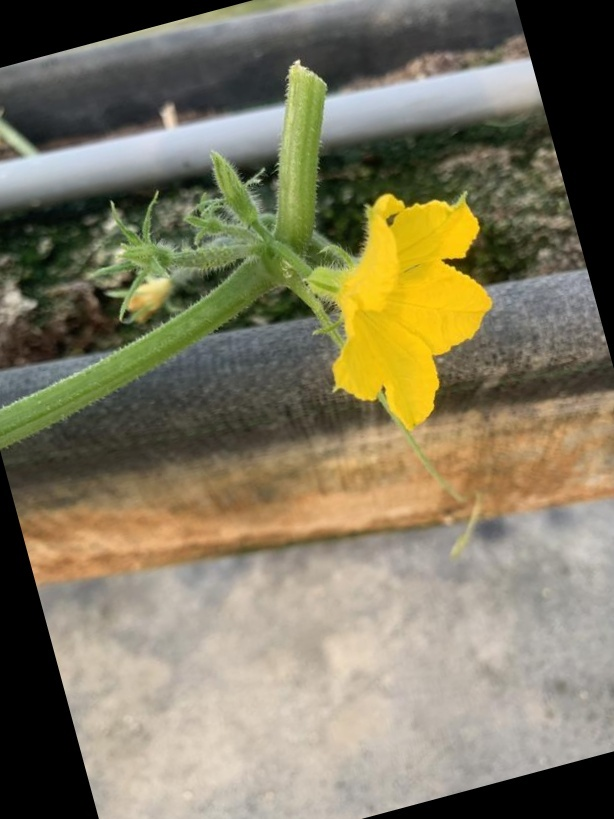flowering: (277, 183, 504, 433)
